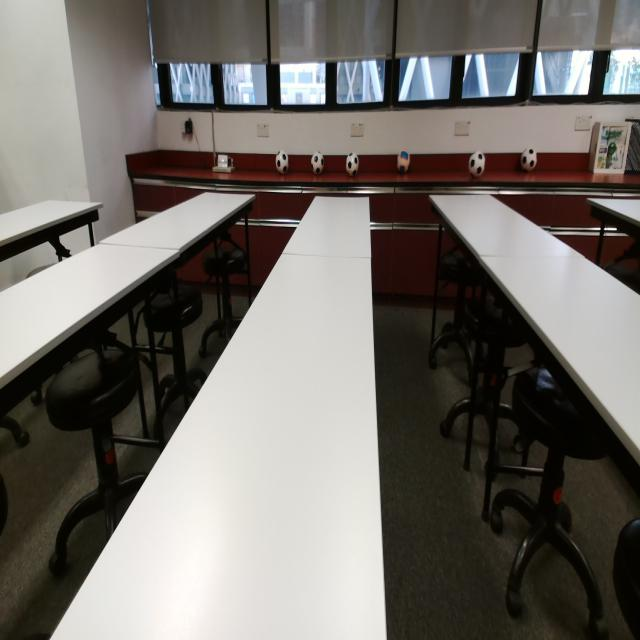ball: (468, 148, 486, 180), (519, 145, 538, 175), (344, 150, 360, 179), (274, 148, 290, 177), (310, 148, 325, 178), (396, 147, 411, 175)
